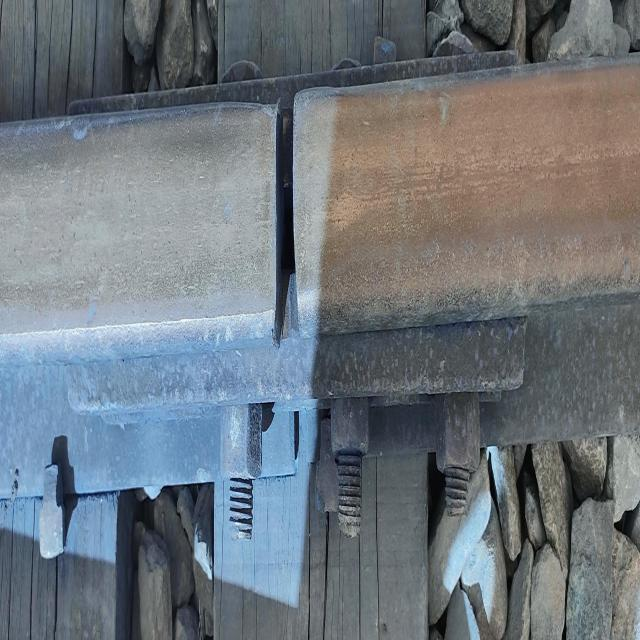Defective Joint: (6, 7, 549, 594)
